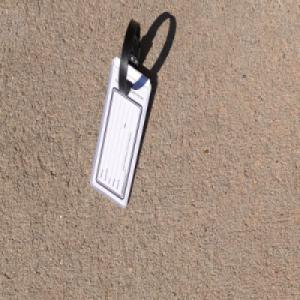LuggageTag: (89, 16, 151, 209)
